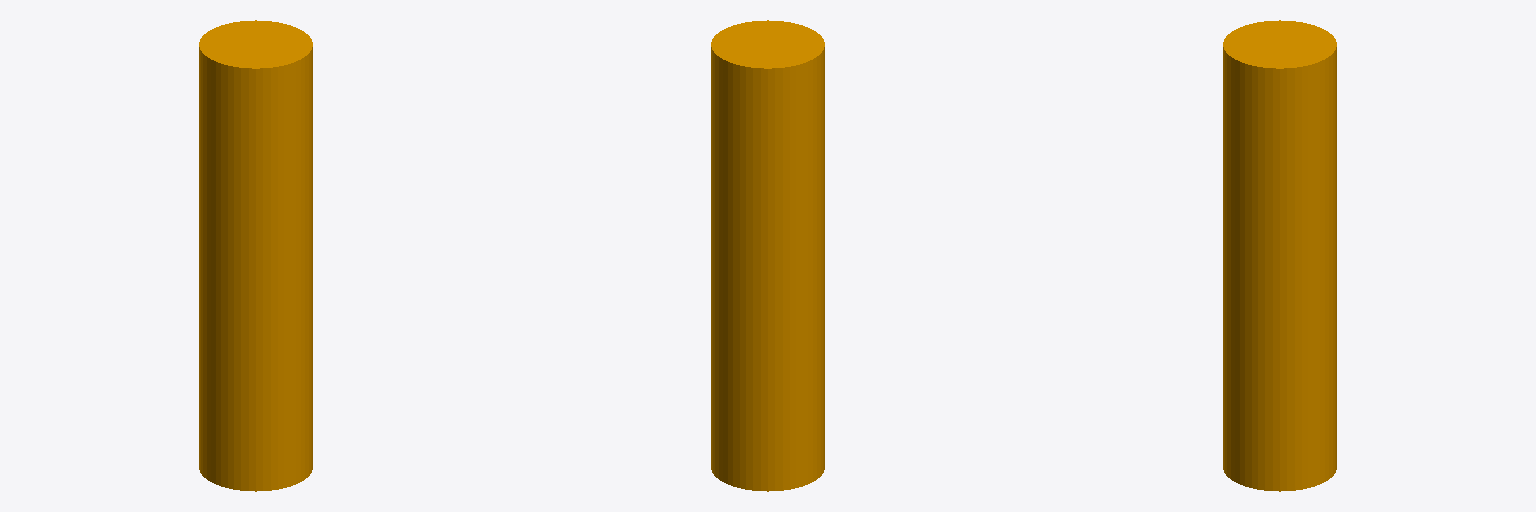
The robot description file, URDF, robot "onrobot_bit_extender_109301":
<?xml version="1.0"?>
<robot name="onrobot_bit_extender_109301">
<link name="mount"><visual ><geometry ><mesh filename="../meshes/mount.obj"/></geometry></visual><collision ><origin xyz="0 0 0.025" rpy="0 0 0"/><geometry ><cylinder radius="0.0061" length="0.05"/></geometry></collision></link>
<link name="flange"></link>
<joint name="flange_fixed" type="fixed"><parent link="mount"/><child link="flange"/><origin xyz="0 0 0.05" rpy="0 0 0"/></joint>
</robot>

--- Facts derived from the render (not from the file) ---
The picture shows the robot from 3 angles, left to right: view 1: azimuth 30°, elevation 25°; view 2: azimuth 150°, elevation 25°; view 3: azimuth 270°, elevation 25°; orthographic projection.
Robot: onrobot_bit_extender_109301 — 2 links, 1 joints (1 fixed); root link mount; default pose: all joints at 0.
Links seen in each view (by area): view 1: mount; view 2: mount; view 3: mount.
Boxes of the visible links, x1,y1,x2,y2 form: mount: (199, 20, 312, 491); mount: (711, 20, 824, 491); mount: (1223, 20, 1336, 491).
Size in the robot's own frame: 0.0122 by 0.0122 by 0.05 metres.
Meshes: 1 distinct files referenced, 1 mesh visuals loaded (1 OBJ).
